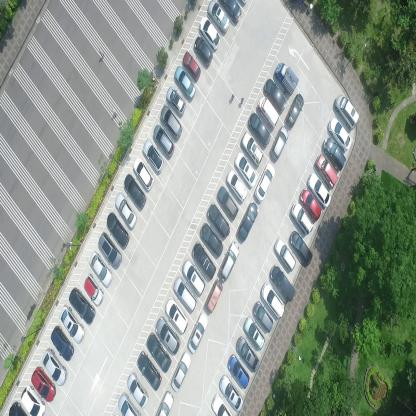car: (41, 346, 68, 387), (146, 332, 172, 374), (136, 351, 162, 392), (68, 286, 96, 324), (58, 305, 85, 344), (218, 372, 244, 412), (154, 316, 180, 356), (30, 366, 57, 404), (334, 92, 360, 130), (260, 282, 286, 320), (97, 231, 123, 269), (237, 202, 260, 244), (235, 335, 259, 375), (173, 275, 197, 315), (307, 170, 332, 208), (270, 263, 294, 302), (192, 241, 216, 280), (187, 311, 208, 355), (106, 211, 129, 251), (164, 297, 188, 335), (123, 173, 147, 211), (89, 250, 113, 288), (50, 326, 75, 362), (328, 115, 352, 152), (255, 162, 276, 204), (170, 351, 191, 393), (115, 191, 137, 231), (182, 258, 205, 296), (126, 370, 149, 408), (289, 230, 313, 266), (274, 60, 298, 96), (241, 129, 264, 166), (220, 240, 240, 282), (226, 354, 249, 390), (248, 111, 271, 147), (234, 150, 257, 186), (207, 204, 230, 240), (142, 138, 165, 174), (324, 134, 346, 171), (316, 152, 338, 189), (300, 185, 322, 222), (274, 235, 296, 272), (264, 77, 286, 114), (20, 386, 47, 416), (200, 223, 223, 258), (160, 104, 183, 139), (291, 199, 313, 235), (243, 316, 265, 352), (258, 94, 280, 130), (199, 16, 221, 52), (173, 66, 196, 100), (152, 124, 175, 158), (216, 184, 238, 219), (207, 0, 229, 35), (133, 156, 154, 192), (226, 168, 247, 202), (252, 300, 274, 332), (286, 92, 305, 129), (194, 34, 214, 69), (270, 126, 290, 161), (84, 273, 104, 307), (205, 278, 223, 314), (182, 50, 201, 83), (166, 85, 186, 116), (218, 0, 241, 26), (117, 392, 141, 416), (211, 392, 232, 416), (154, 390, 173, 415), (8, 400, 29, 416)
